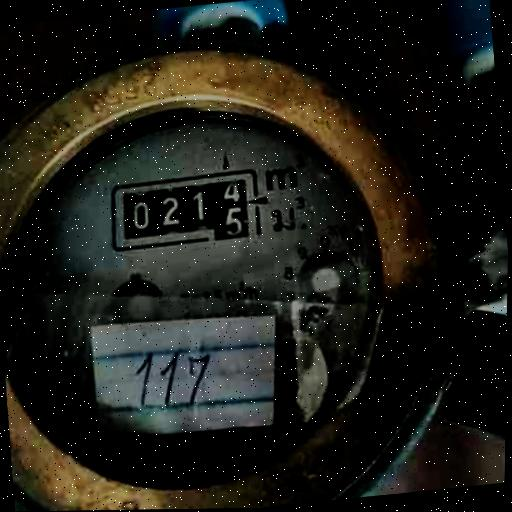0: (121, 189, 159, 240)
1: (185, 184, 213, 231)
2: (153, 187, 191, 236)
4: (207, 180, 249, 241)
border_water_meter_number: (105, 168, 262, 254)
